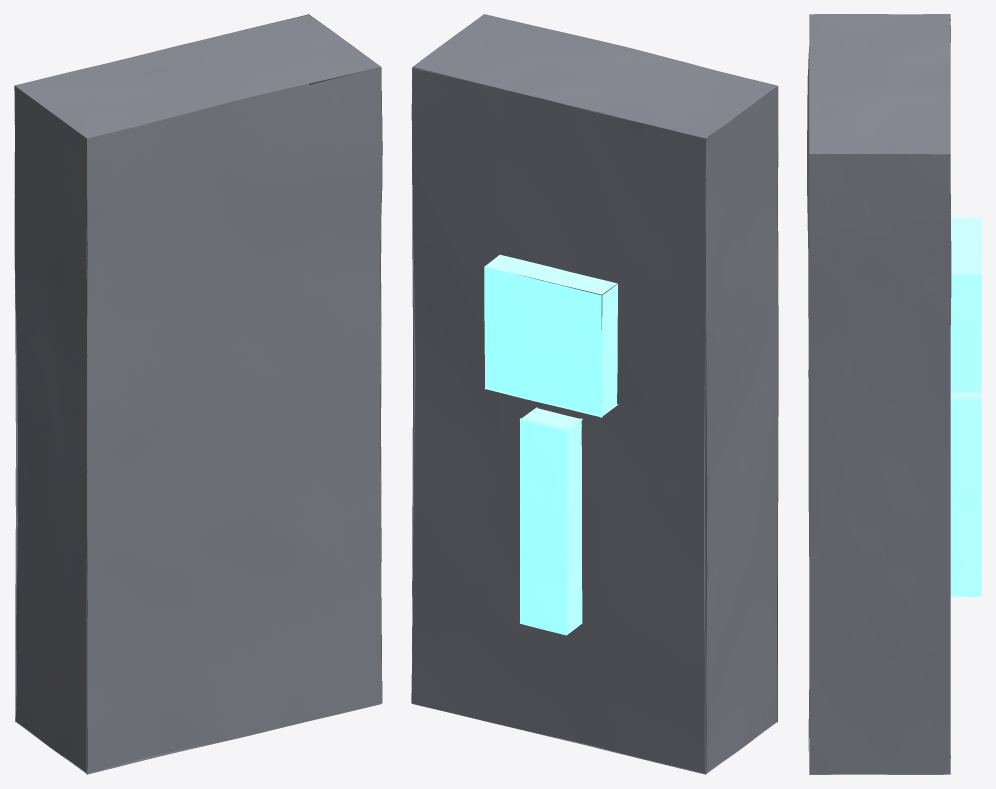
The model's file is rune_stone.glb.
The picture shows the model from 3 angles, left to right: view 1: azimuth 30°, elevation 25°; view 2: azimuth 150°, elevation 25°; view 3: azimuth 270°, elevation 25°; orthographic projection. The views are drawn at different scales.
Parts seen in each view (by area): view 1: RuneStone; view 2: RuneStone; view 3: RuneStone.
Part boxes in pixels (x1,y1,x2,y2): RuneStone: [14, 14, 382, 774]; RuneStone: [411, 14, 778, 774]; RuneStone: [807, 14, 981, 774].
Bounding box in the file's own units: 0.7534 × 1.56 × 0.3964.
